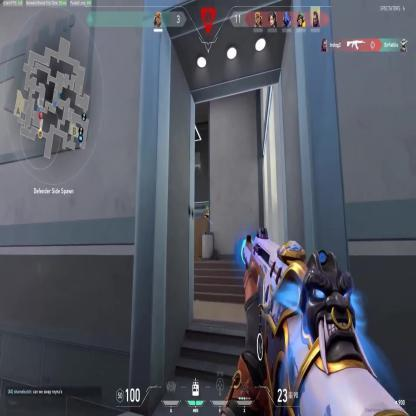enemy: (204, 205, 209, 233)
enemy_head: (206, 206, 209, 210)
